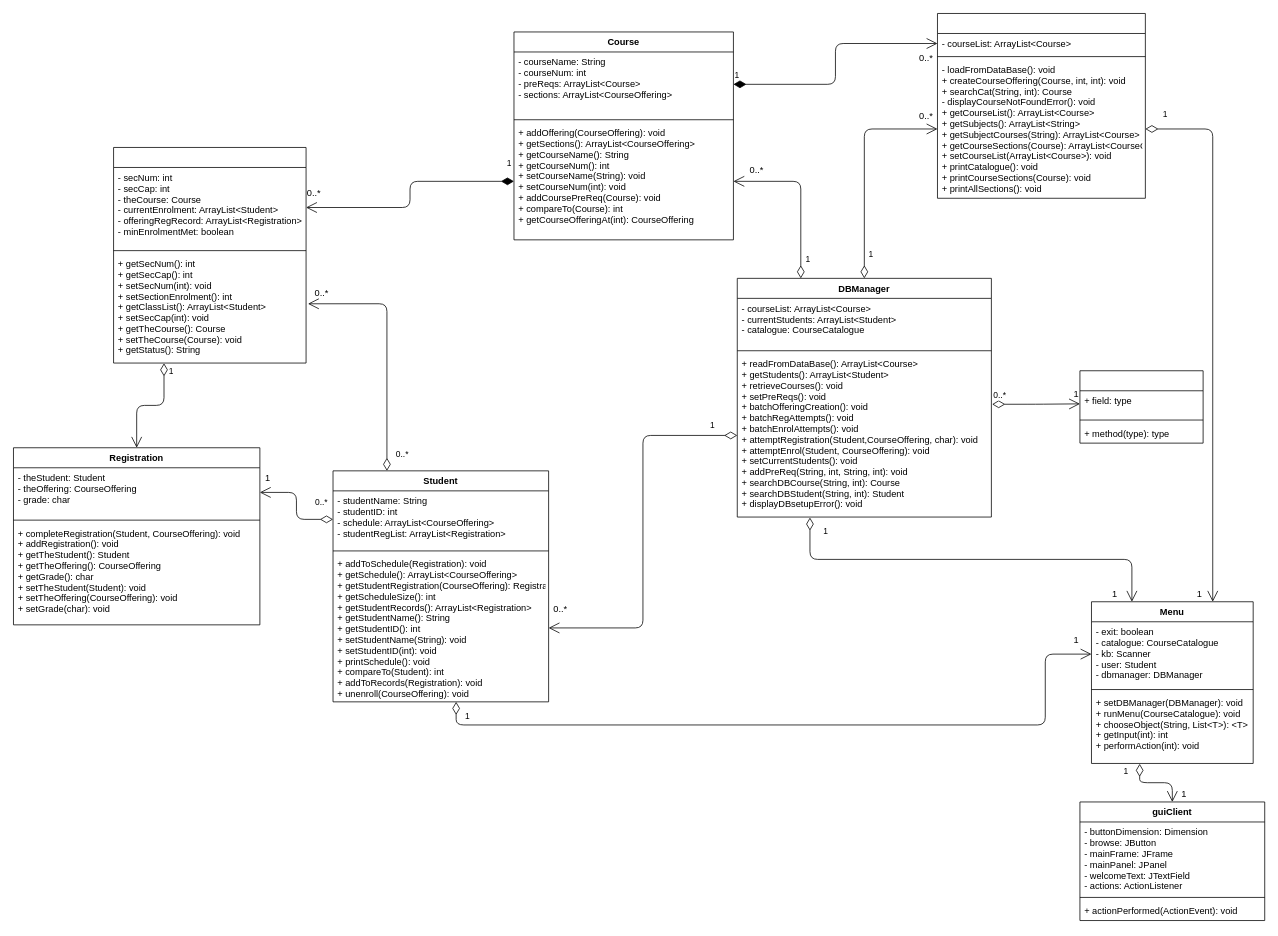
This 1278x936 diagram has some shape labels left out. Each missing label, with the box of its shape:
CourseCatalogue: (937, 13, 1145, 198)
CourseOffering: (113, 147, 306, 363)
RandomAccessFile: (1079, 370, 1203, 443)
